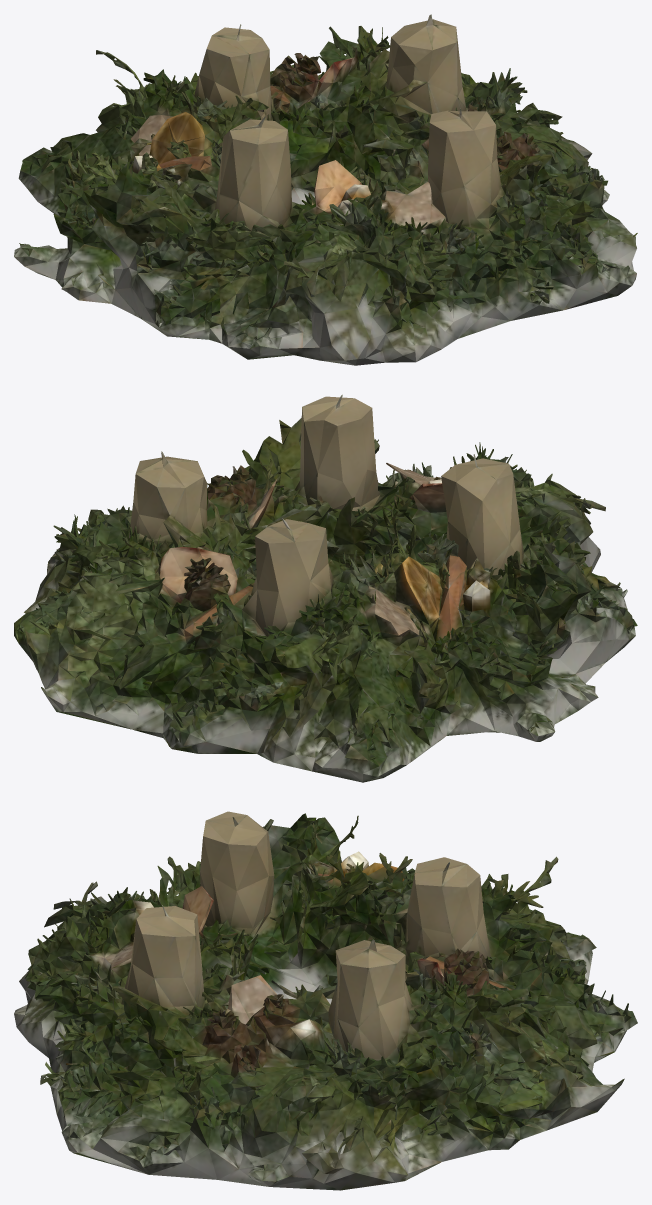
Rendered from F3DFF7D3-ECBA-9640-ACDE-CE80A00A868B_512.glb.
3 views of the same model, one above another, from view 1: azimuth 30°, elevation 25°; view 2: azimuth 150°, elevation 25°; view 3: azimuth 270°, elevation 25° (orthographic). The views are drawn at different scales.
Visible parts, largest first — view 1: Adventskranz Hsl_30k_1k; view 2: Adventskranz Hsl_30k_1k; view 3: Adventskranz Hsl_30k_1k.
Part boxes in pixels (<box>): Adventskranz Hsl_30k_1k: <box>14,14,637,365</box>; Adventskranz Hsl_30k_1k: <box>14,394,637,782</box>; Adventskranz Hsl_30k_1k: <box>14,811,637,1190</box>.
Bounding box in the file's own units: 0.4682 × 0.161 × 0.461.
1 material, 1 textured.
